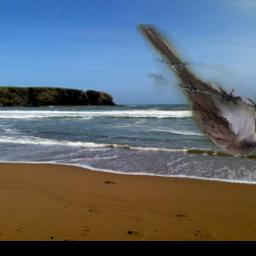Cuckoo: (137, 25, 256, 157)
